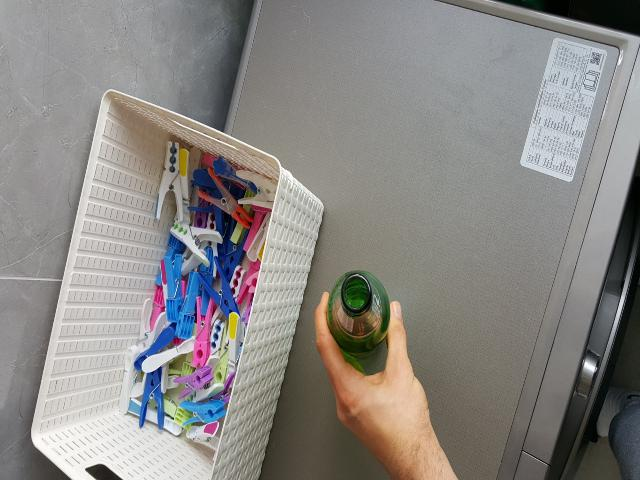beer: (327, 270, 390, 359)
